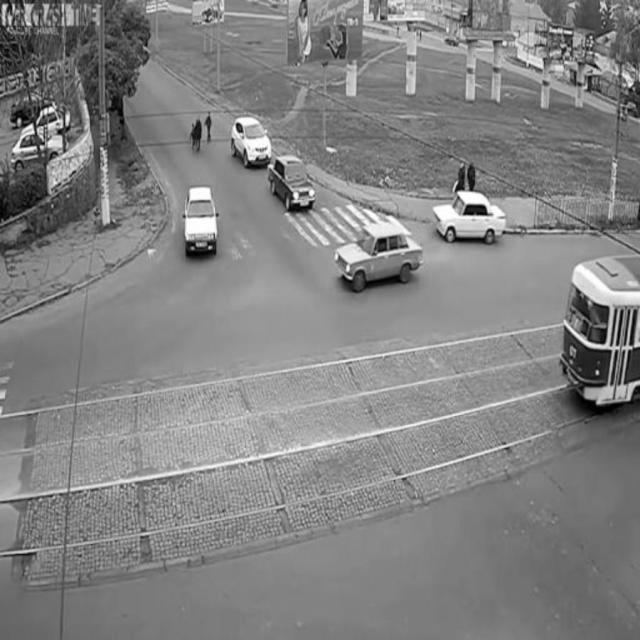person: (455, 157, 479, 192), (187, 109, 203, 157), (203, 104, 215, 149)
vehicle: (563, 248, 640, 418), (335, 222, 423, 290), (438, 194, 509, 245), (268, 152, 316, 216), (185, 184, 217, 265), (14, 121, 69, 167), (231, 117, 268, 169)
